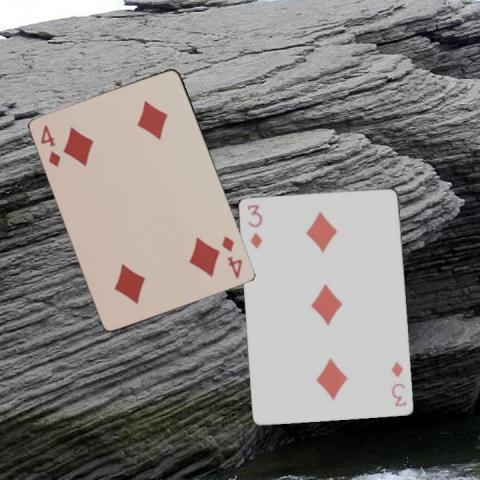3d: (388, 359, 408, 408), (245, 202, 263, 250)
4d: (219, 233, 244, 280), (38, 122, 63, 169)
